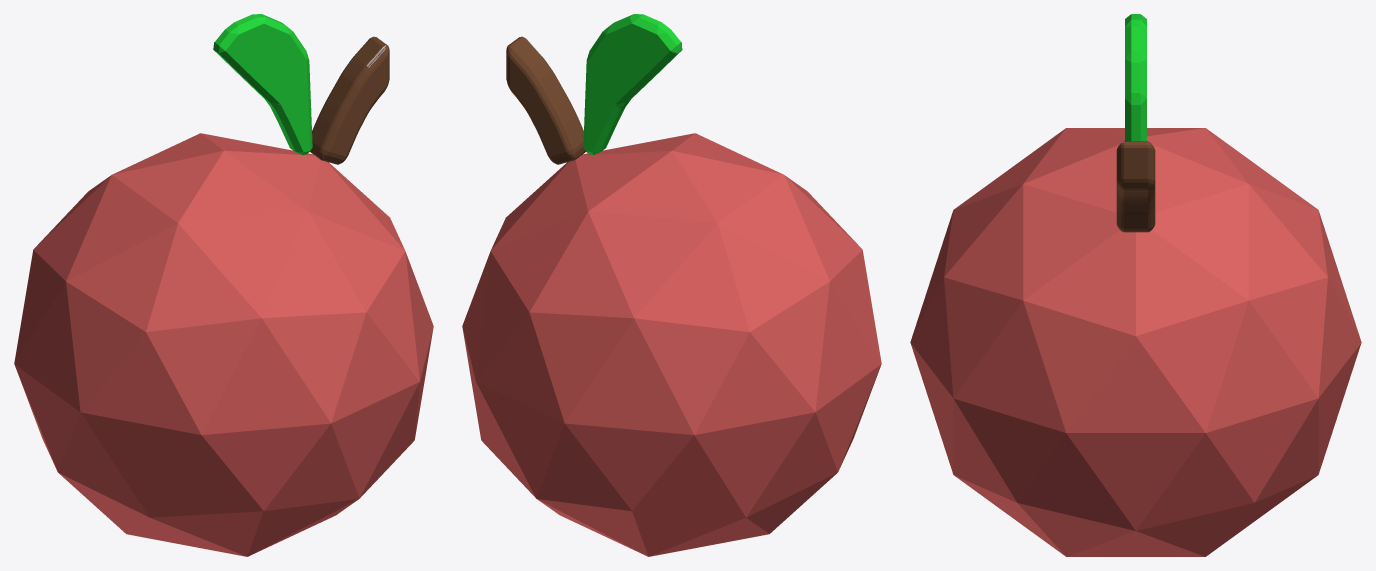
Rendered from apple.glb.
3 views of the same model, side by side, from view 1: azimuth 30°, elevation 25°; view 2: azimuth 150°, elevation 25°; view 3: azimuth 270°, elevation 25° (orthographic). The views are drawn at different scales.
Parts seen in each view (by area): view 1: Cube; view 2: Cube; view 3: Cube.
Boxes of the visible parts, x1=… form: Cube: x1=14, y1=14, x2=433, y2=556; Cube: x1=462, y1=14, x2=881, y2=556; Cube: x1=910, y1=14, x2=1361, y2=556.
Size of the model in its own units: 3.06 by 4.28 by 3.22.
1 material, 1 textured.
